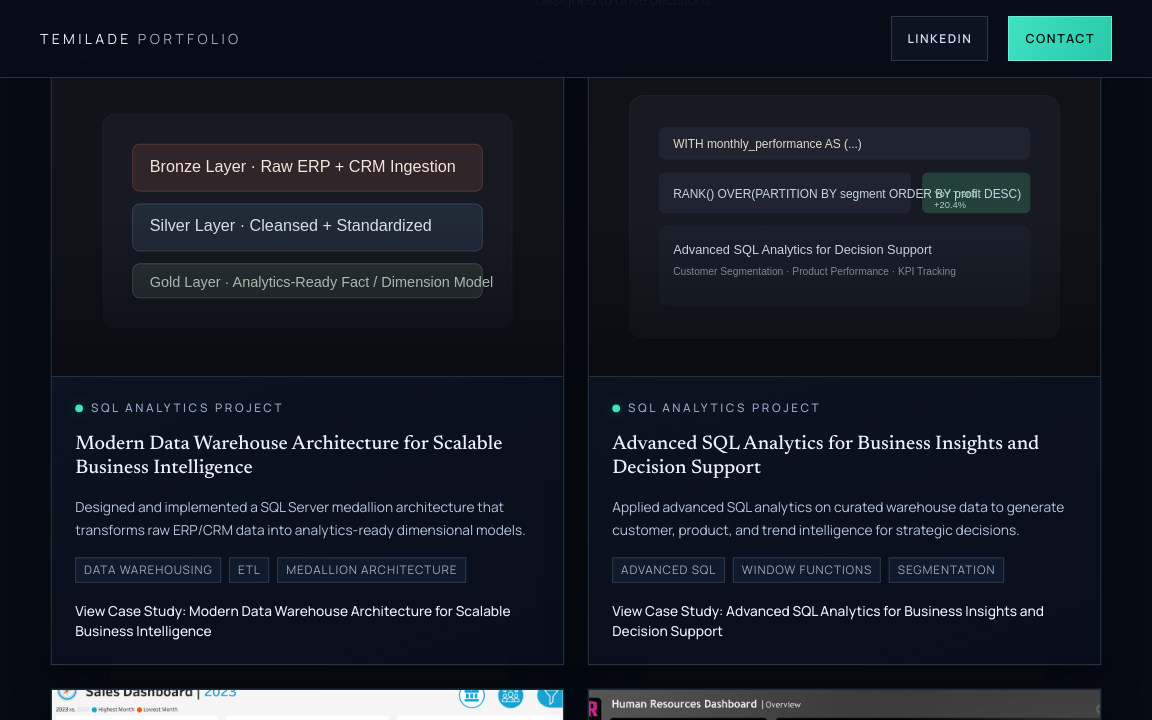
Test case: portfolio routing and conversion › navigates to a project case study from homepage
(page scrolled)
Click the link with aria-label "View Case Study: Modern Data Warehouse Architecture": (307, 360) [51,56,564,665]
(page scrolled)
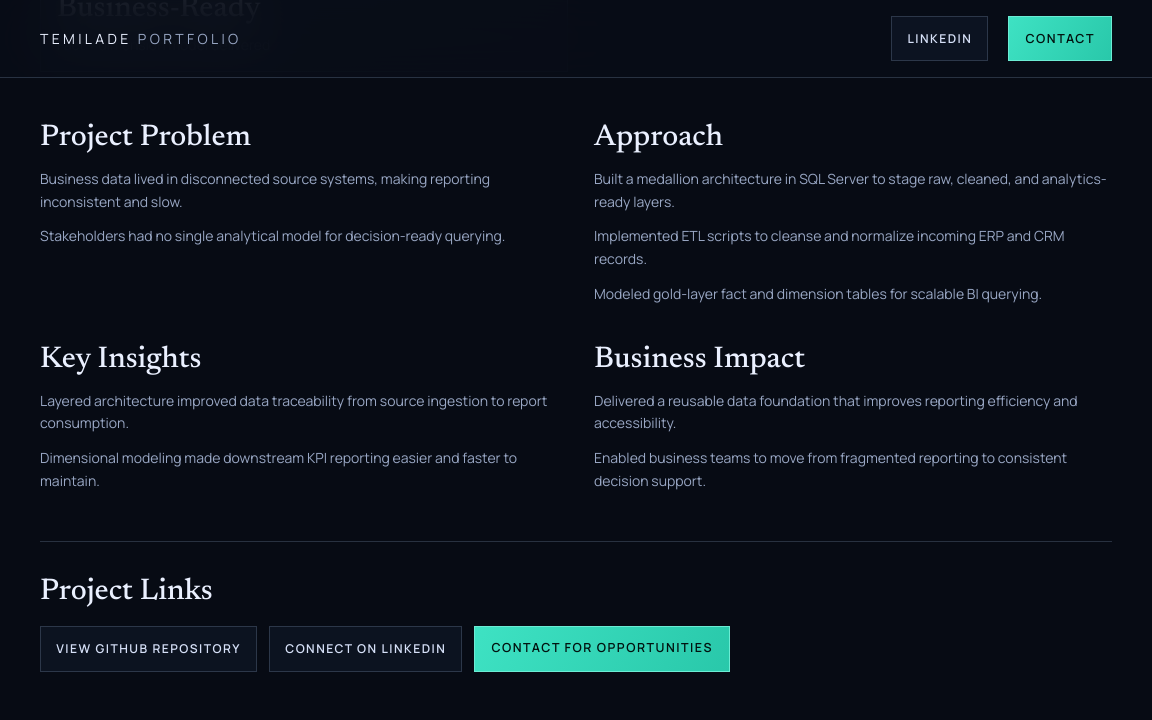
expect the heading "Business Impact" is shown: met, box [594,345,805,375]
